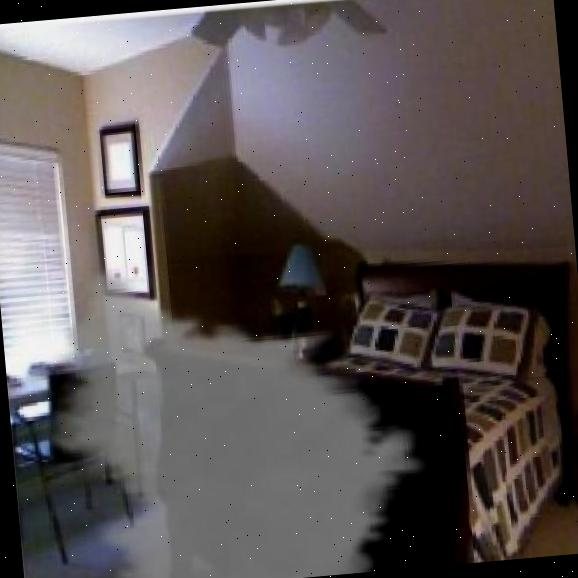smoke: (53, 312, 391, 578)
